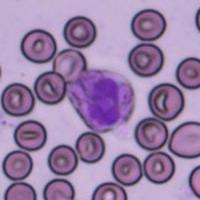E: (66, 68, 134, 132)
